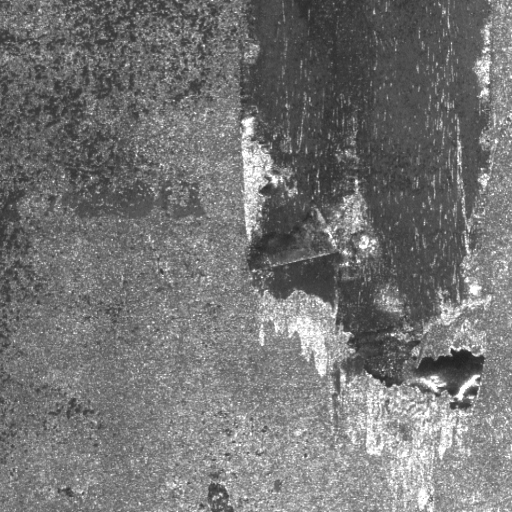qiaopi: (243, 198, 486, 413)
